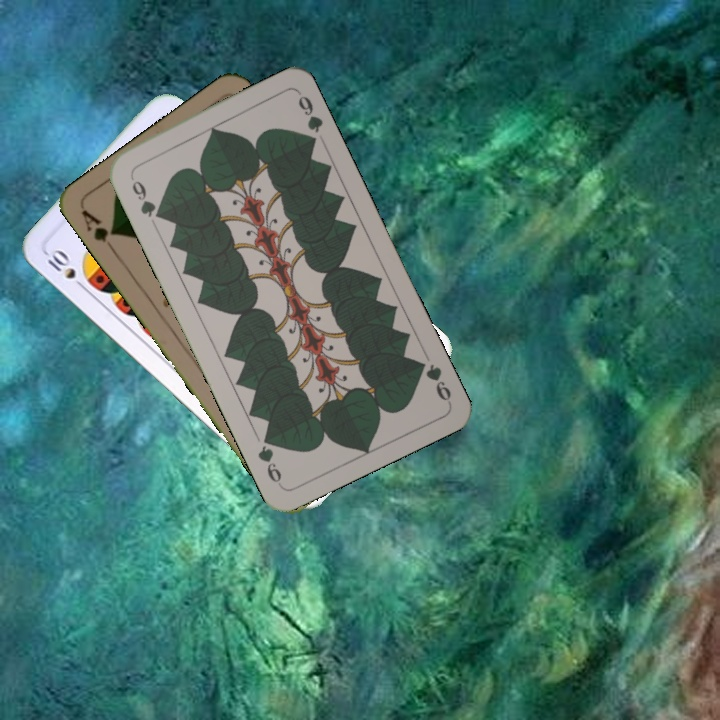G9: (411, 355, 454, 406), (126, 171, 165, 222)
GA: (76, 205, 120, 256)
S10: (43, 244, 89, 293)
